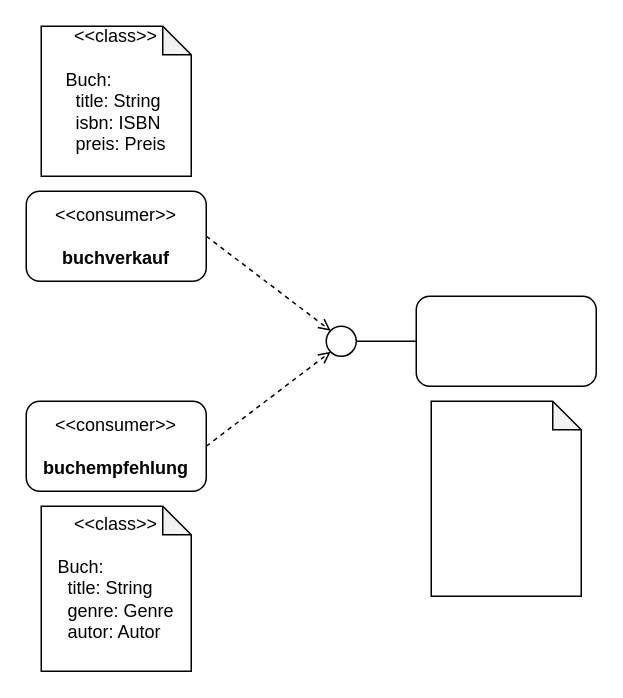
The diagram is 623 pixels wide and 698 high, and some of its shapes have lost their labels. The shapes that lost their labels are listed below. From the top down, each one's centre as x and y in pixels, then its label:
At point 505,340: "<<provider>> buchladen".
At point 505,498: "<<class>> Buch: title: String isbn: ISBN genre: Genre autor: Autor preis: Preis".
